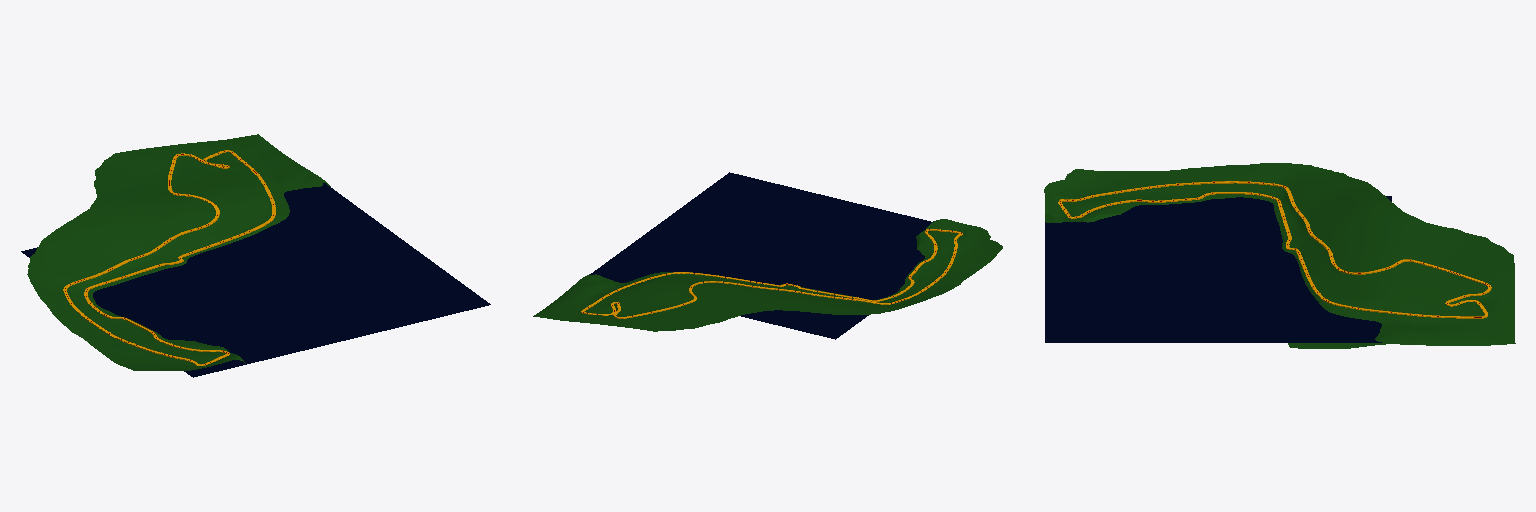
The robot description file, URDF, robot "circuito":
<?xml version="1.0" ?>
<robot name="circuito">
  <link name="link">
    <visual>
      <geometry>
        <mesh filename="package://f1/models/monaco/meshes/monaco.dae" scale="1 1 1"/>
      </geometry>
    </visual>
    <visual>
      <geometry>
        <mesh filename="package://f1/models/monaco/meshes/monaco_track.dae" scale="1 1 1"/>
      </geometry>
    </visual>
  </link>
</robot>

--- What the picture shows (computed from the rendered views, not written in the file) ---
3 views of the same robot in one strip: view 1: azimuth 30°, elevation 25°; view 2: azimuth 150°, elevation 25°; view 3: azimuth 270°, elevation 25° (orthographic).
Model circuito with 1 links and 0 joints (none), rooted at link, posed all joints at 0.
Visible links, largest first — view 1: link; view 2: link; view 3: link.
Boxes of the visible links, <box> form: link: <box>21,134,490,377</box>; link: <box>533,172,1002,339</box>; link: <box>1044,163,1515,348</box>.
Size in the robot's own frame: 1287 by 1491 by 93.68 metres.
2 mesh visuals loaded from 2 distinct referenced files (2 Collada DAE).
